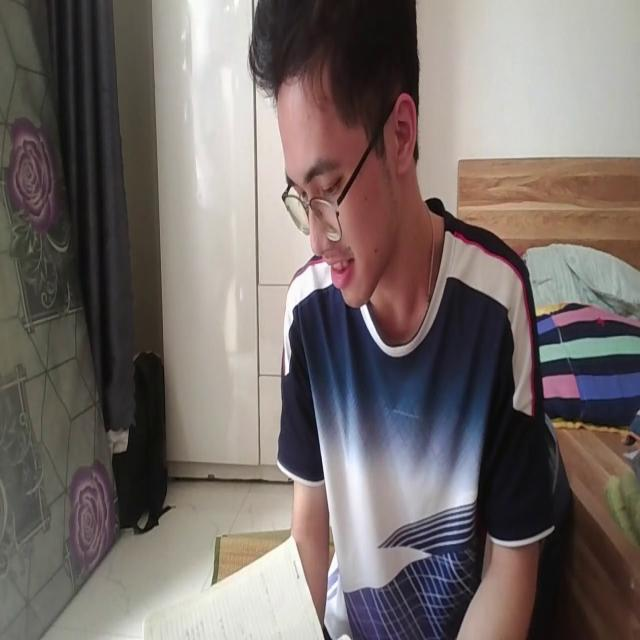book: (133, 535, 332, 640)
student: (248, 2, 550, 640)
